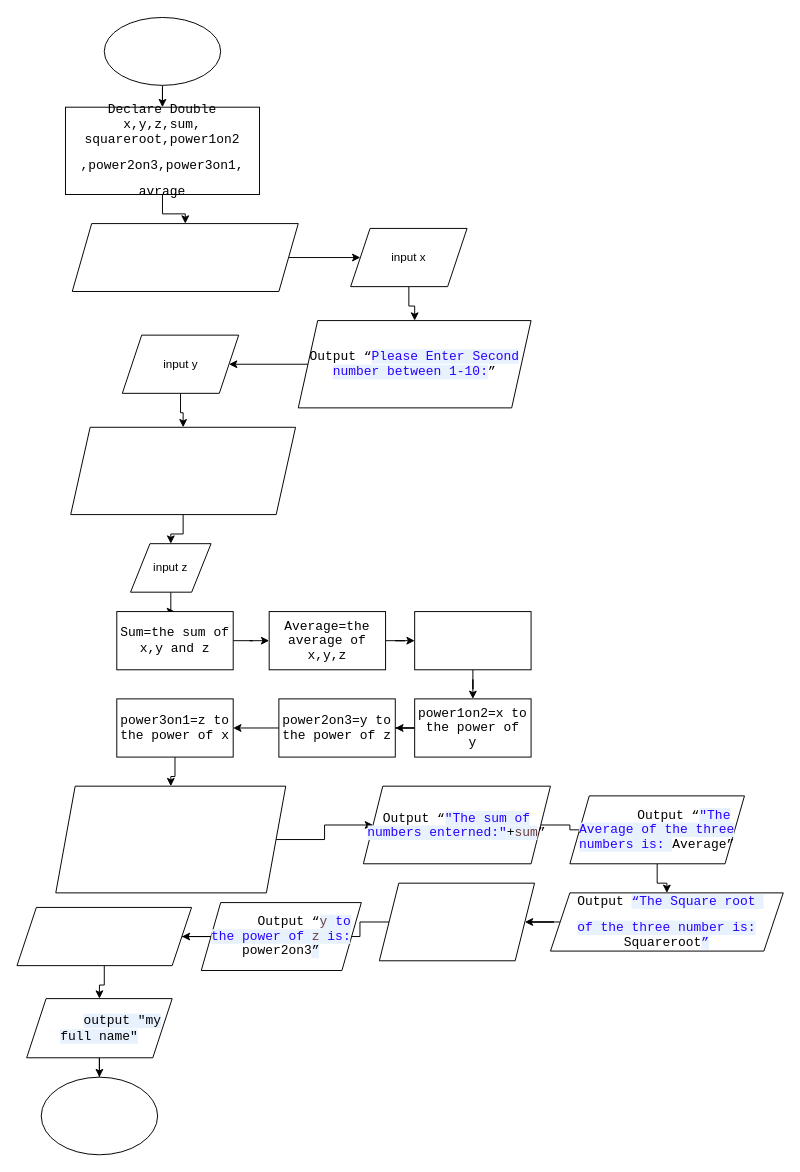
Image size: 800x1172. Some labels were removed from this diagram. The shapes that lost their labels are listed below. From the top down, each one's centre as x and y in pixels, then its label:
point (162, 50): start
point (184, 257): Output “ Please Enter First number between 1-10: ”
point (183, 470): Output “ Please Enter third number between 1-10: ”
point (472, 640): Squareroot=the square root of x ,y and z
point (170, 839): output “first number is:x, second number is:y ,third number is:y”
point (104, 936): Output “ z to the power of x is: power3on1 ”
point (456, 921): Output “ x to the power of y is: power1on2 ”
point (99, 1115): End
